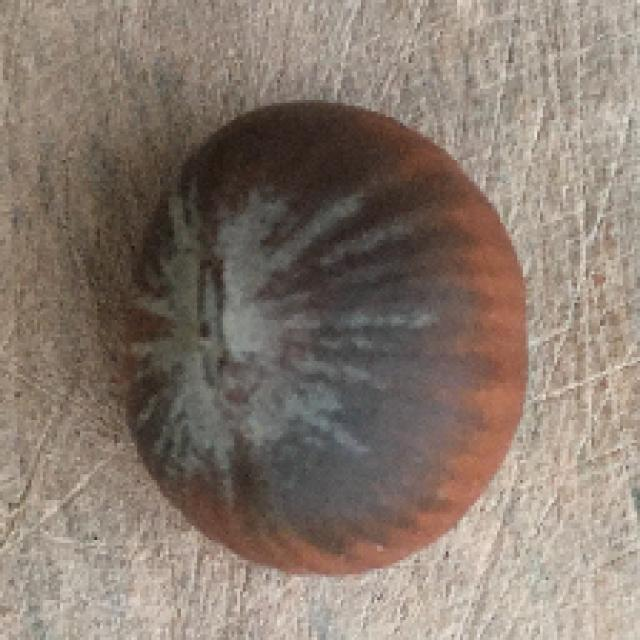DamagedHazelnut: (116, 108, 535, 577)
